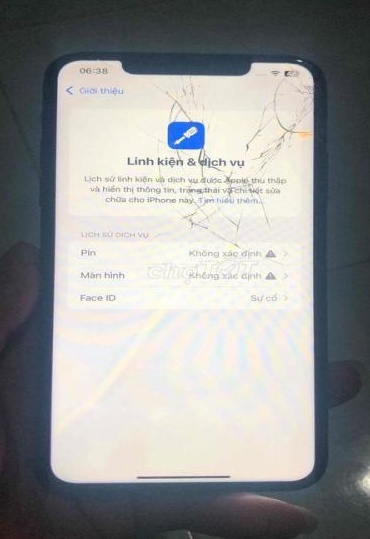physical_damage: (149, 67, 329, 294)
